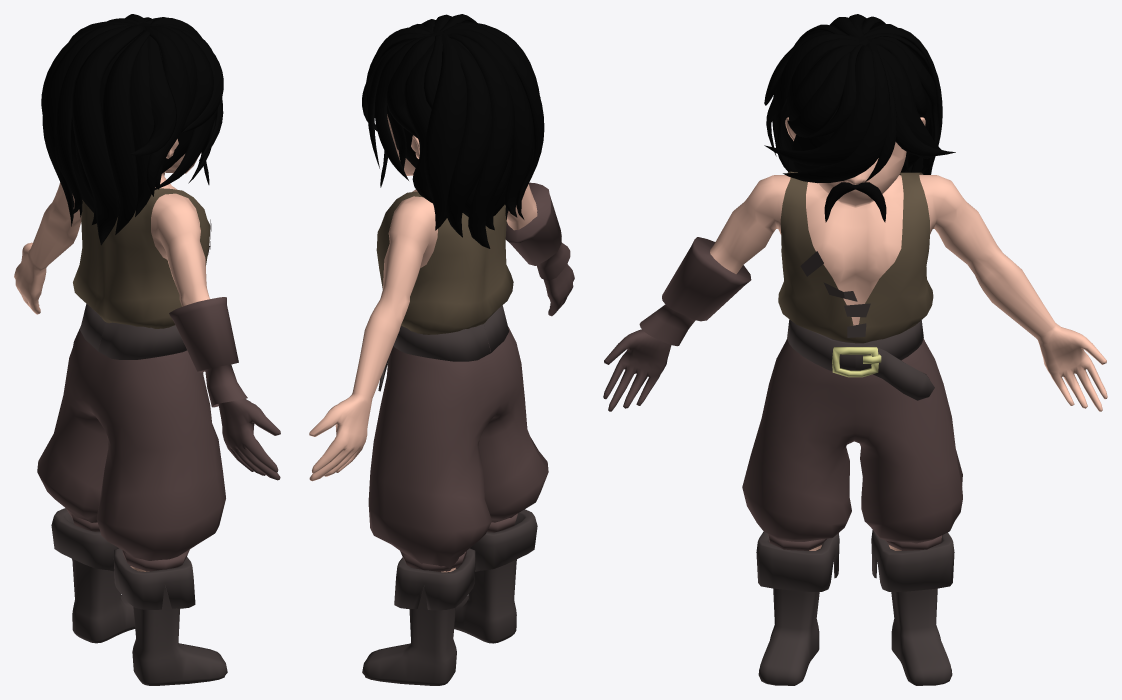
Rendered from HeroLP.fbx.
The picture shows the model from 3 angles, left to right: view 1: azimuth 30°, elevation 25°; view 2: azimuth 150°, elevation 25°; view 3: azimuth 270°, elevation 25°; orthographic projection.
Visible parts, largest first — view 1: Pants LP, NurbsPath.028, Boots, Shirt LP.001, Body_LP, Glow, Belt.01, Hair, Pants LP.02; view 2: Pants LP, NurbsPath.028, Boots, Body_LP, Shirt LP.001, Glow, Belt.01, Hair, Pants LP.02; view 3: Pants LP, Body_LP, NurbsPath.028, Boots, Shirt LP.001, Glow, Belt.01, Belt.02, Plane.002, Moustashe, Pants LP.02, Buckle01 (+1 smaller).
Boxes of the visible parts, x1,y1,x2,y2 form: Pants LP: (37, 326, 225, 560); NurbsPath.028: (41, 14, 223, 245); Boots: (51, 508, 227, 685); Shirt LP.001: (73, 188, 210, 328); Body_LP: (14, 139, 209, 571); Glow: (169, 297, 280, 480); Belt.01: (80, 304, 186, 359); Hair: (71, 22, 192, 215); Pants LP.02: (71, 514, 189, 571); Pants LP: (368, 326, 548, 571); NurbsPath.028: (362, 14, 544, 248); Boots: (362, 509, 537, 685); Body_LP: (309, 114, 537, 572); Shirt LP.001: (376, 191, 513, 334); Glow: (505, 182, 574, 316); Belt.01: (393, 305, 508, 361); Hair: (380, 31, 510, 216); Pants LP.02: (400, 513, 517, 571); Pants LP: (742, 338, 962, 543); Body_LP: (710, 117, 1107, 550); NurbsPath.028: (764, 14, 955, 183); Boots: (756, 530, 954, 685); Shirt LP.001: (778, 171, 933, 343); Glow: (603, 237, 751, 411); Belt.01: (787, 319, 923, 371); Belt.02: (866, 345, 934, 400); Plane.002: (800, 251, 870, 337); Moustashe: (824, 182, 886, 222); Pants LP.02: (768, 534, 942, 550); Buckle01: (832, 347, 878, 377).
Size of the model in its own units: 70.19 by 270 by 194.
